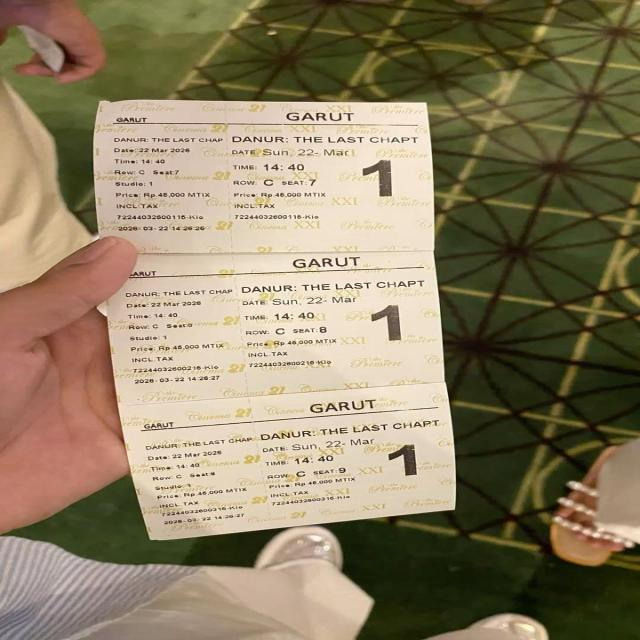date: (110, 145, 202, 155)
store: (282, 109, 366, 125)
total: (231, 190, 329, 198)
